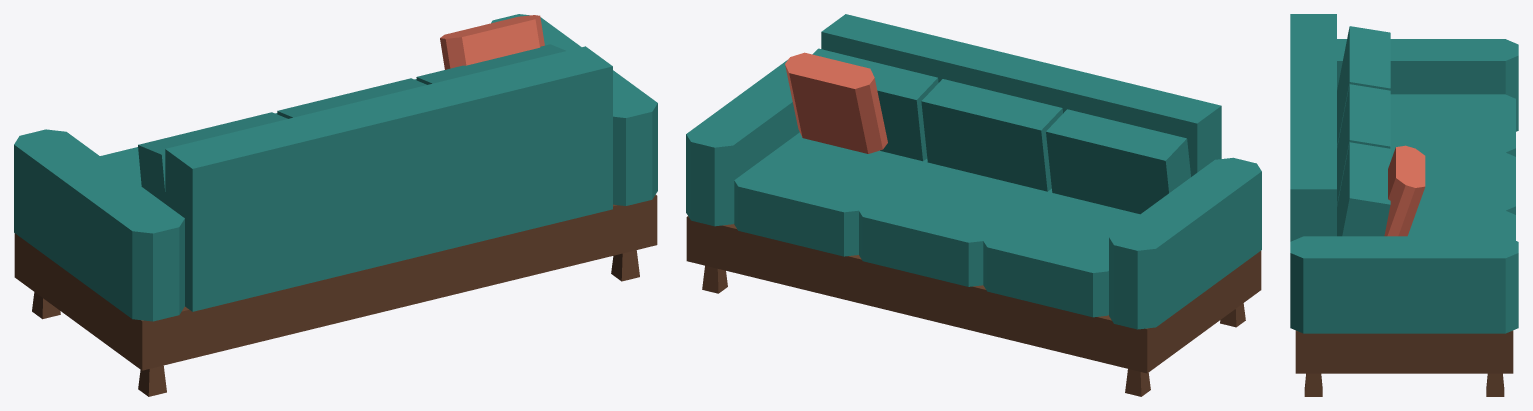
File: sofa.glb
3 views of the same model, side by side, from view 1: azimuth 30°, elevation 25°; view 2: azimuth 150°, elevation 25°; view 3: azimuth 270°, elevation 25° (orthographic). The views are drawn at different scales.
Visible parts, largest first — view 1: Body; view 2: Body; view 3: Body.
Part boxes in pixels (x1,y1,x2,y2): Body: (14,14,657,396); Body: (686,14,1261,396); Body: (1290,14,1518,396).
Size of the model in its own units: 2 by 0.8411 by 0.88.
